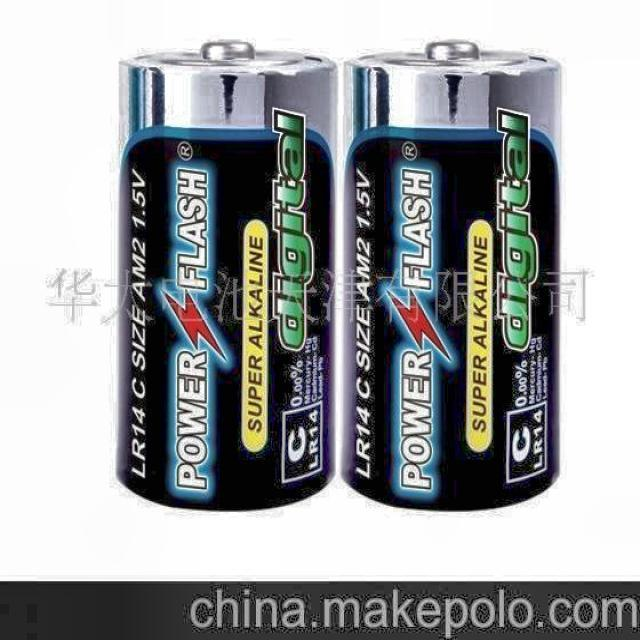battery: (342, 42, 560, 509), (118, 43, 335, 508)
